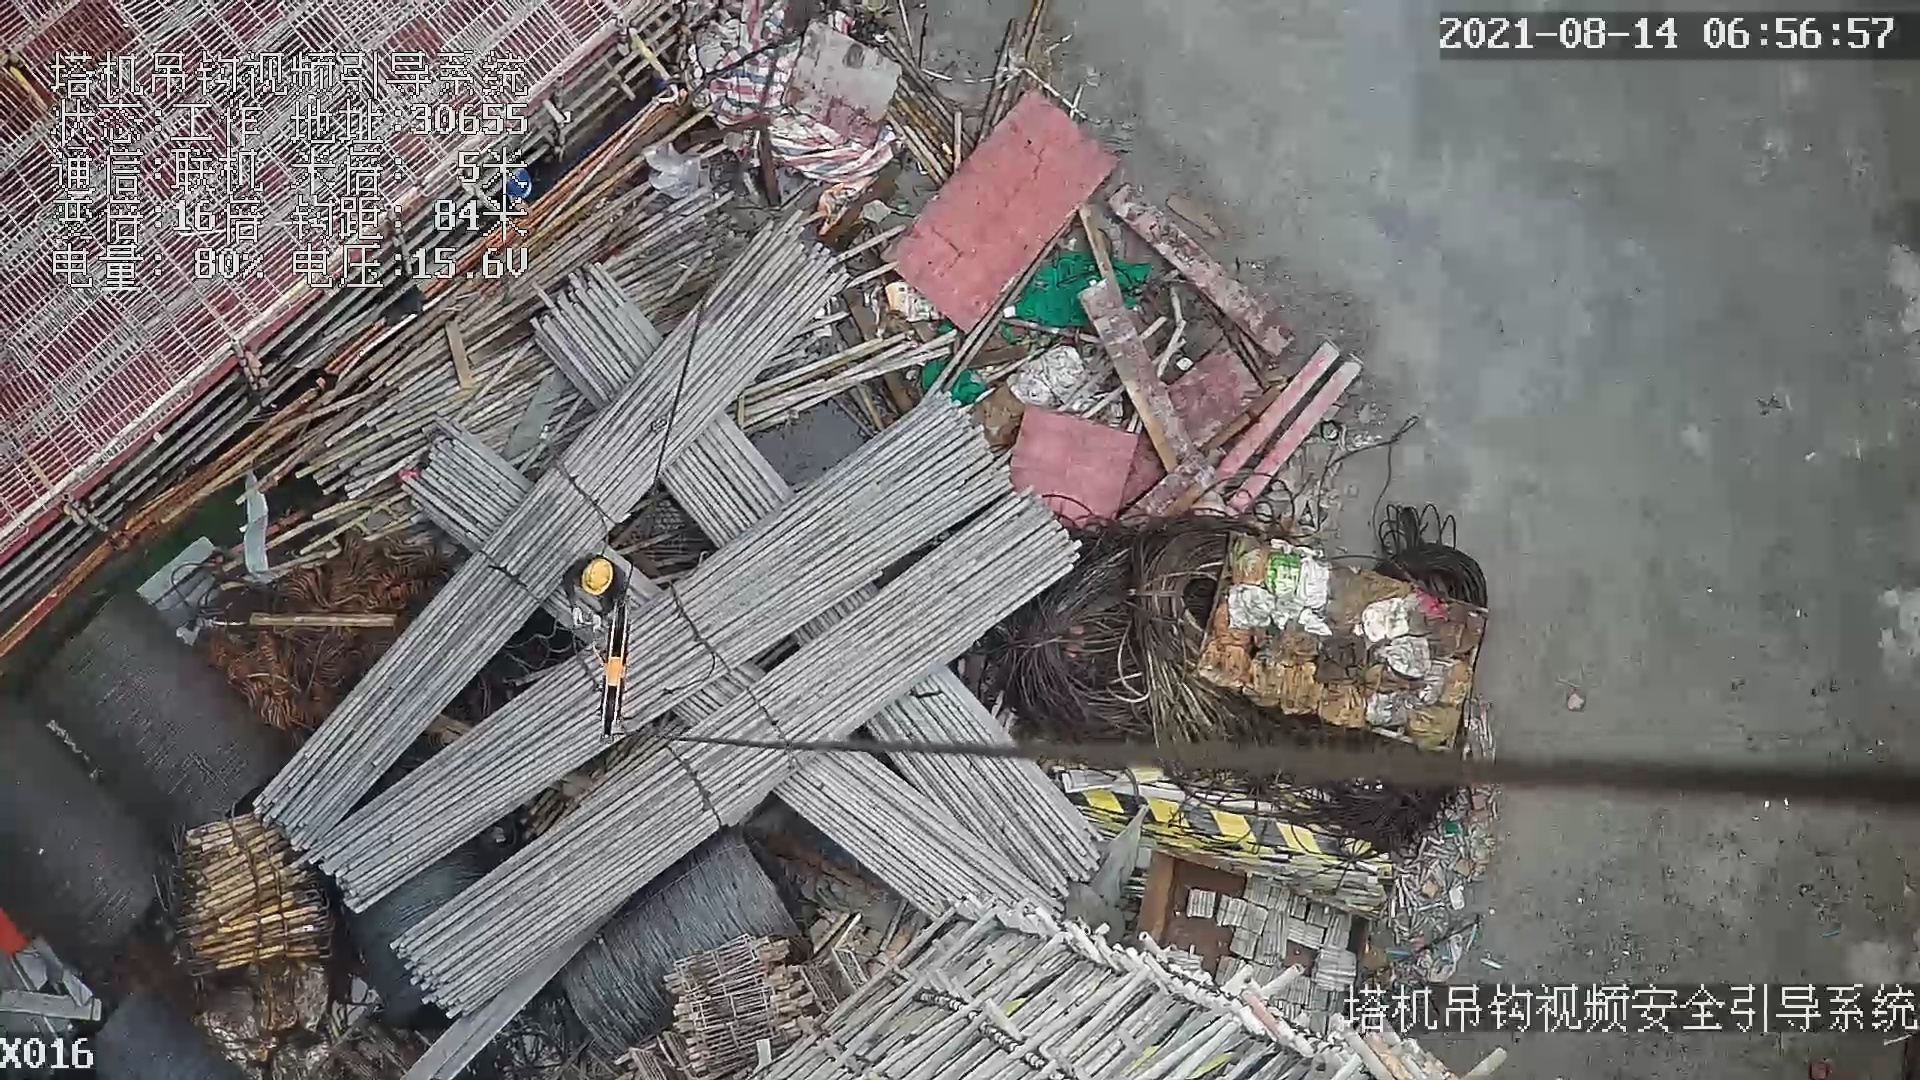helmet: (581, 559, 612, 595)
hook: (585, 595, 642, 744)
person: (558, 555, 624, 630)
rebar: (255, 218, 846, 856), (302, 387, 1013, 911), (389, 491, 1081, 1018), (766, 739, 1063, 923), (867, 668, 1102, 891)
wood: (174, 811, 331, 972)
